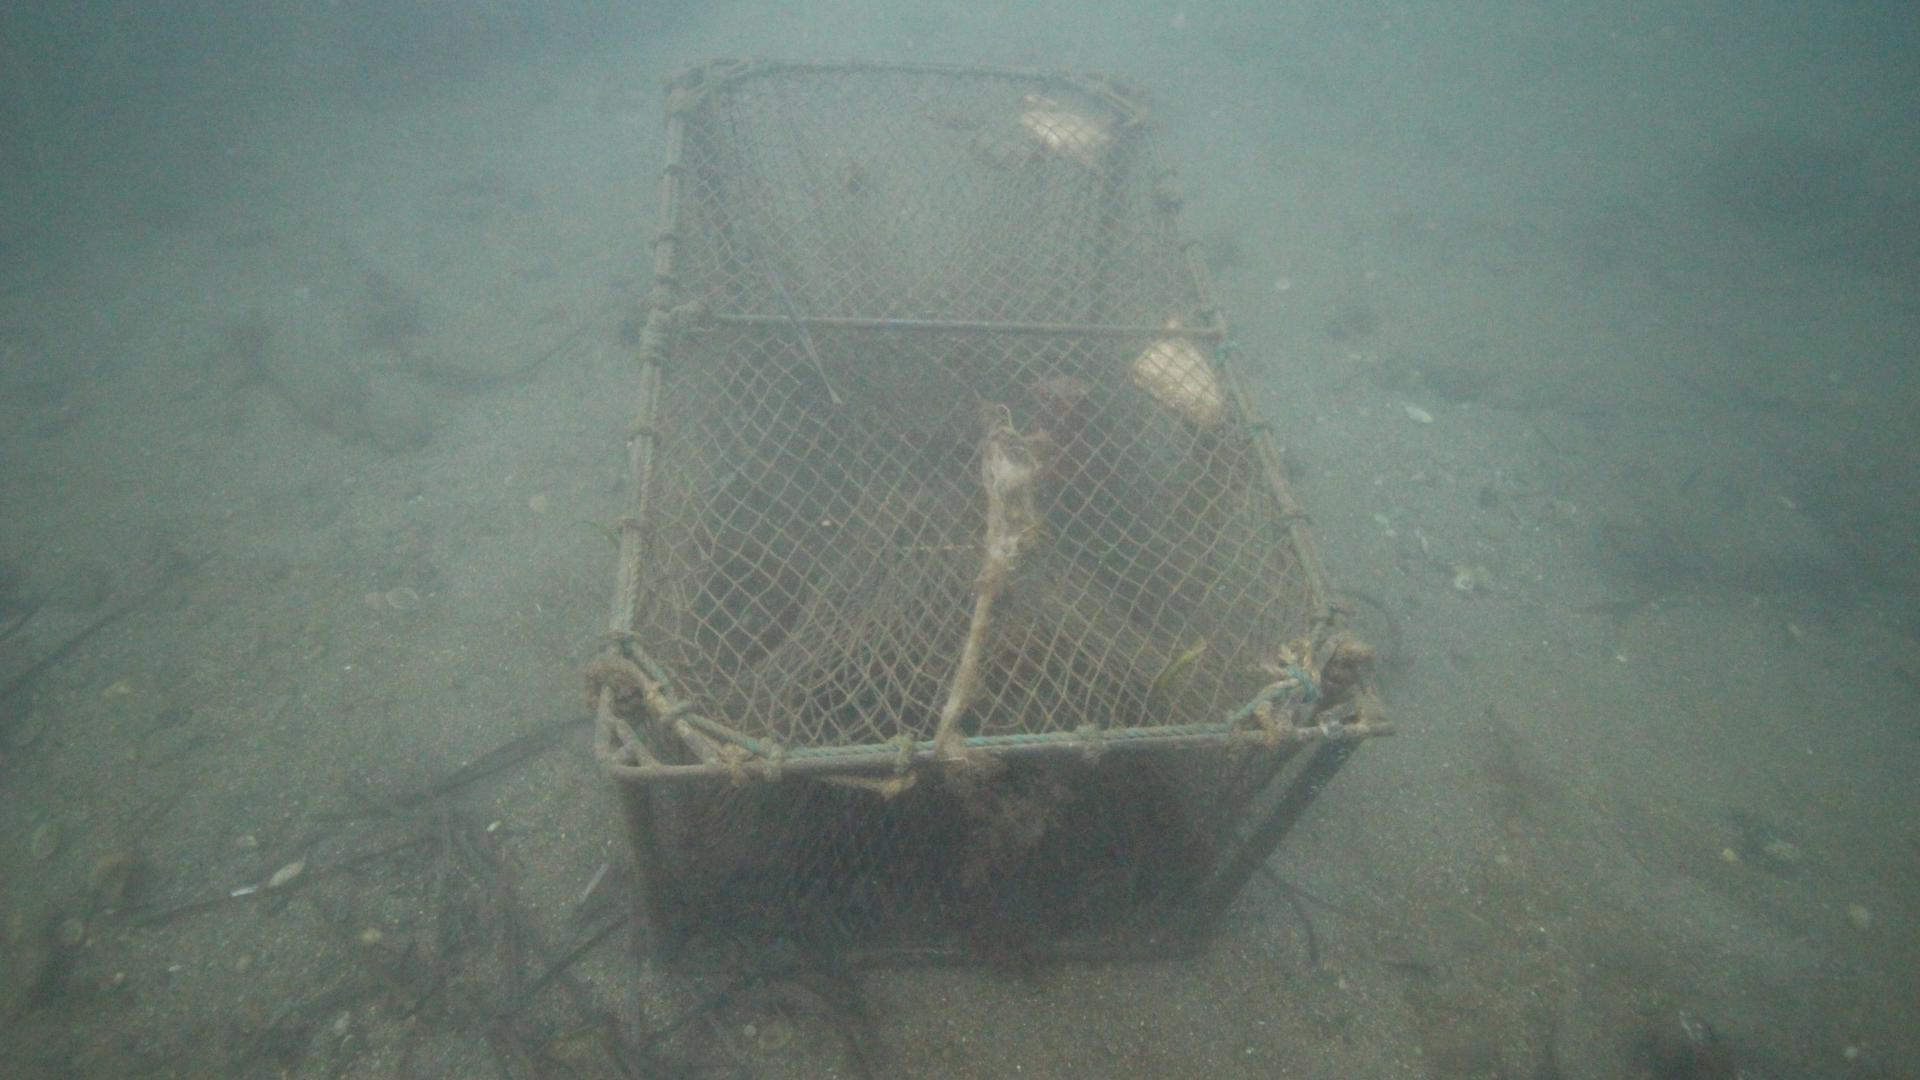rectangular fish trap: (585, 51, 1400, 984)
